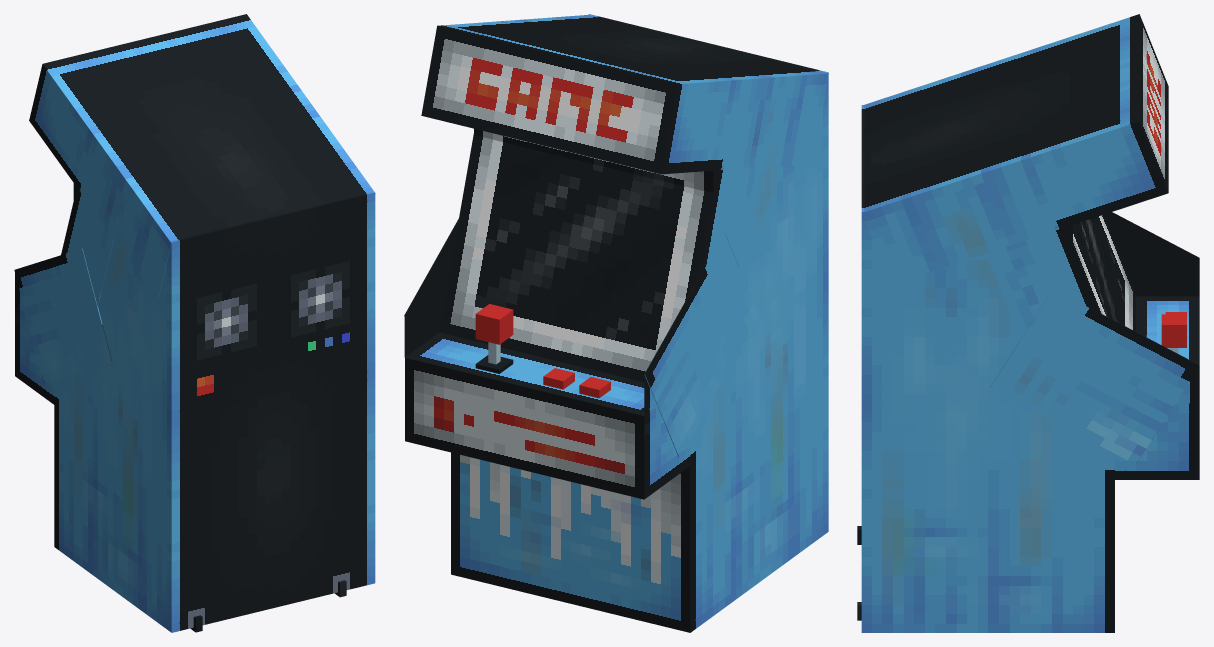
Rendered from asset.gltf.
The picture shows the model from 3 angles, left to right: view 1: azimuth 30°, elevation 25°; view 2: azimuth 150°, elevation 25°; view 3: azimuth 270°, elevation 25°; orthographic projection. The views are drawn at different scales.
Visible parts, largest first — view 1: 1330e21a-b6e4-1943-9881-3a13c0b72220, 26b4e3b7-b178-6263-2ae7-9267ce69e355, 0c84b9e7-07c4-62b9-7039-130ce2c5c7f5, b70d174a-7f87-b3aa-75ac-c02edc78e8b6, e6000d44-ecfc-fec9-0433-970d354c023c, 1b09a2f7-9202-5f7a-2dfd-01b2b0120589; view 2: 1330e21a-b6e4-1943-9881-3a13c0b72220, e6000d44-ecfc-fec9-0433-970d354c023c, 26b4e3b7-b178-6263-2ae7-9267ce69e355, 1b09a2f7-9202-5f7a-2dfd-01b2b0120589, 0c84b9e7-07c4-62b9-7039-130ce2c5c7f5, b70d174a-7f87-b3aa-75ac-c02edc78e8b6, d3c058c4-0e0c-1c91-e515-e74a3000a4fb, 86af7a4f-bfdb-19a6-f150-73942789ba8e, d8e1c460-2577-7d1c-136f-03b7d1b63846; view 3: 1330e21a-b6e4-1943-9881-3a13c0b72220, 26b4e3b7-b178-6263-2ae7-9267ce69e355, 0c84b9e7-07c4-62b9-7039-130ce2c5c7f5, d3c058c4-0e0c-1c91-e515-e74a3000a4fb, e6000d44-ecfc-fec9-0433-970d354c023c, 1b09a2f7-9202-5f7a-2dfd-01b2b0120589, 02eb4038-8b2e-7a26-fac8-578e9ecb6b47, b70d174a-7f87-b3aa-75ac-c02edc78e8b6, d8e1c460-2577-7d1c-136f-03b7d1b63846, 86af7a4f-bfdb-19a6-f150-73942789ba8e.
Boxes of the visible parts, bbox=[...] form: 1330e21a-b6e4-1943-9881-3a13c0b72220: bbox=[54, 354, 375, 632]; 26b4e3b7-b178-6263-2ae7-9267ce69e355: bbox=[29, 14, 375, 299]; 0c84b9e7-07c4-62b9-7039-130ce2c5c7f5: bbox=[73, 183, 375, 419]; b70d174a-7f87-b3aa-75ac-c02edc78e8b6: bbox=[14, 248, 111, 383]; e6000d44-ecfc-fec9-0433-970d354c023c: bbox=[54, 187, 114, 377]; 1b09a2f7-9202-5f7a-2dfd-01b2b0120589: bbox=[15, 305, 54, 404]; 1330e21a-b6e4-1943-9881-3a13c0b72220: bbox=[451, 281, 828, 632]; e6000d44-ecfc-fec9-0433-970d354c023c: bbox=[439, 134, 761, 389]; 26b4e3b7-b178-6263-2ae7-9267ce69e355: bbox=[421, 15, 828, 174]; 1b09a2f7-9202-5f7a-2dfd-01b2b0120589: bbox=[405, 332, 690, 499]; 0c84b9e7-07c4-62b9-7039-130ce2c5c7f5: bbox=[474, 14, 828, 350]; b70d174a-7f87-b3aa-75ac-c02edc78e8b6: bbox=[644, 233, 759, 457]; d3c058c4-0e0c-1c91-e515-e74a3000a4fb: bbox=[404, 218, 458, 337]; 86af7a4f-bfdb-19a6-f150-73942789ba8e: bbox=[404, 285, 447, 357]; d8e1c460-2577-7d1c-136f-03b7d1b63846: bbox=[475, 304, 513, 344]; 1330e21a-b6e4-1943-9881-3a13c0b72220: bbox=[861, 403, 1114, 632]; 26b4e3b7-b178-6263-2ae7-9267ce69e355: bbox=[862, 14, 1168, 284]; 0c84b9e7-07c4-62b9-7039-130ce2c5c7f5: bbox=[861, 105, 1072, 403]; d3c058c4-0e0c-1c91-e515-e74a3000a4fb: bbox=[990, 298, 1199, 462]; e6000d44-ecfc-fec9-0433-970d354c023c: bbox=[985, 215, 1136, 429]; 1b09a2f7-9202-5f7a-2dfd-01b2b0120589: bbox=[1115, 296, 1199, 479]; 02eb4038-8b2e-7a26-fac8-578e9ecb6b47: bbox=[1121, 258, 1199, 296]; b70d174a-7f87-b3aa-75ac-c02edc78e8b6: bbox=[1103, 212, 1199, 257]; d8e1c460-2577-7d1c-136f-03b7d1b63846: bbox=[1161, 314, 1186, 347]; 86af7a4f-bfdb-19a6-f150-73942789ba8e: bbox=[1176, 365, 1199, 403].
Size of the model in its own units: 6.04 by 13.47 by 8.1.
Materials: 1 (1 with a texture image).
